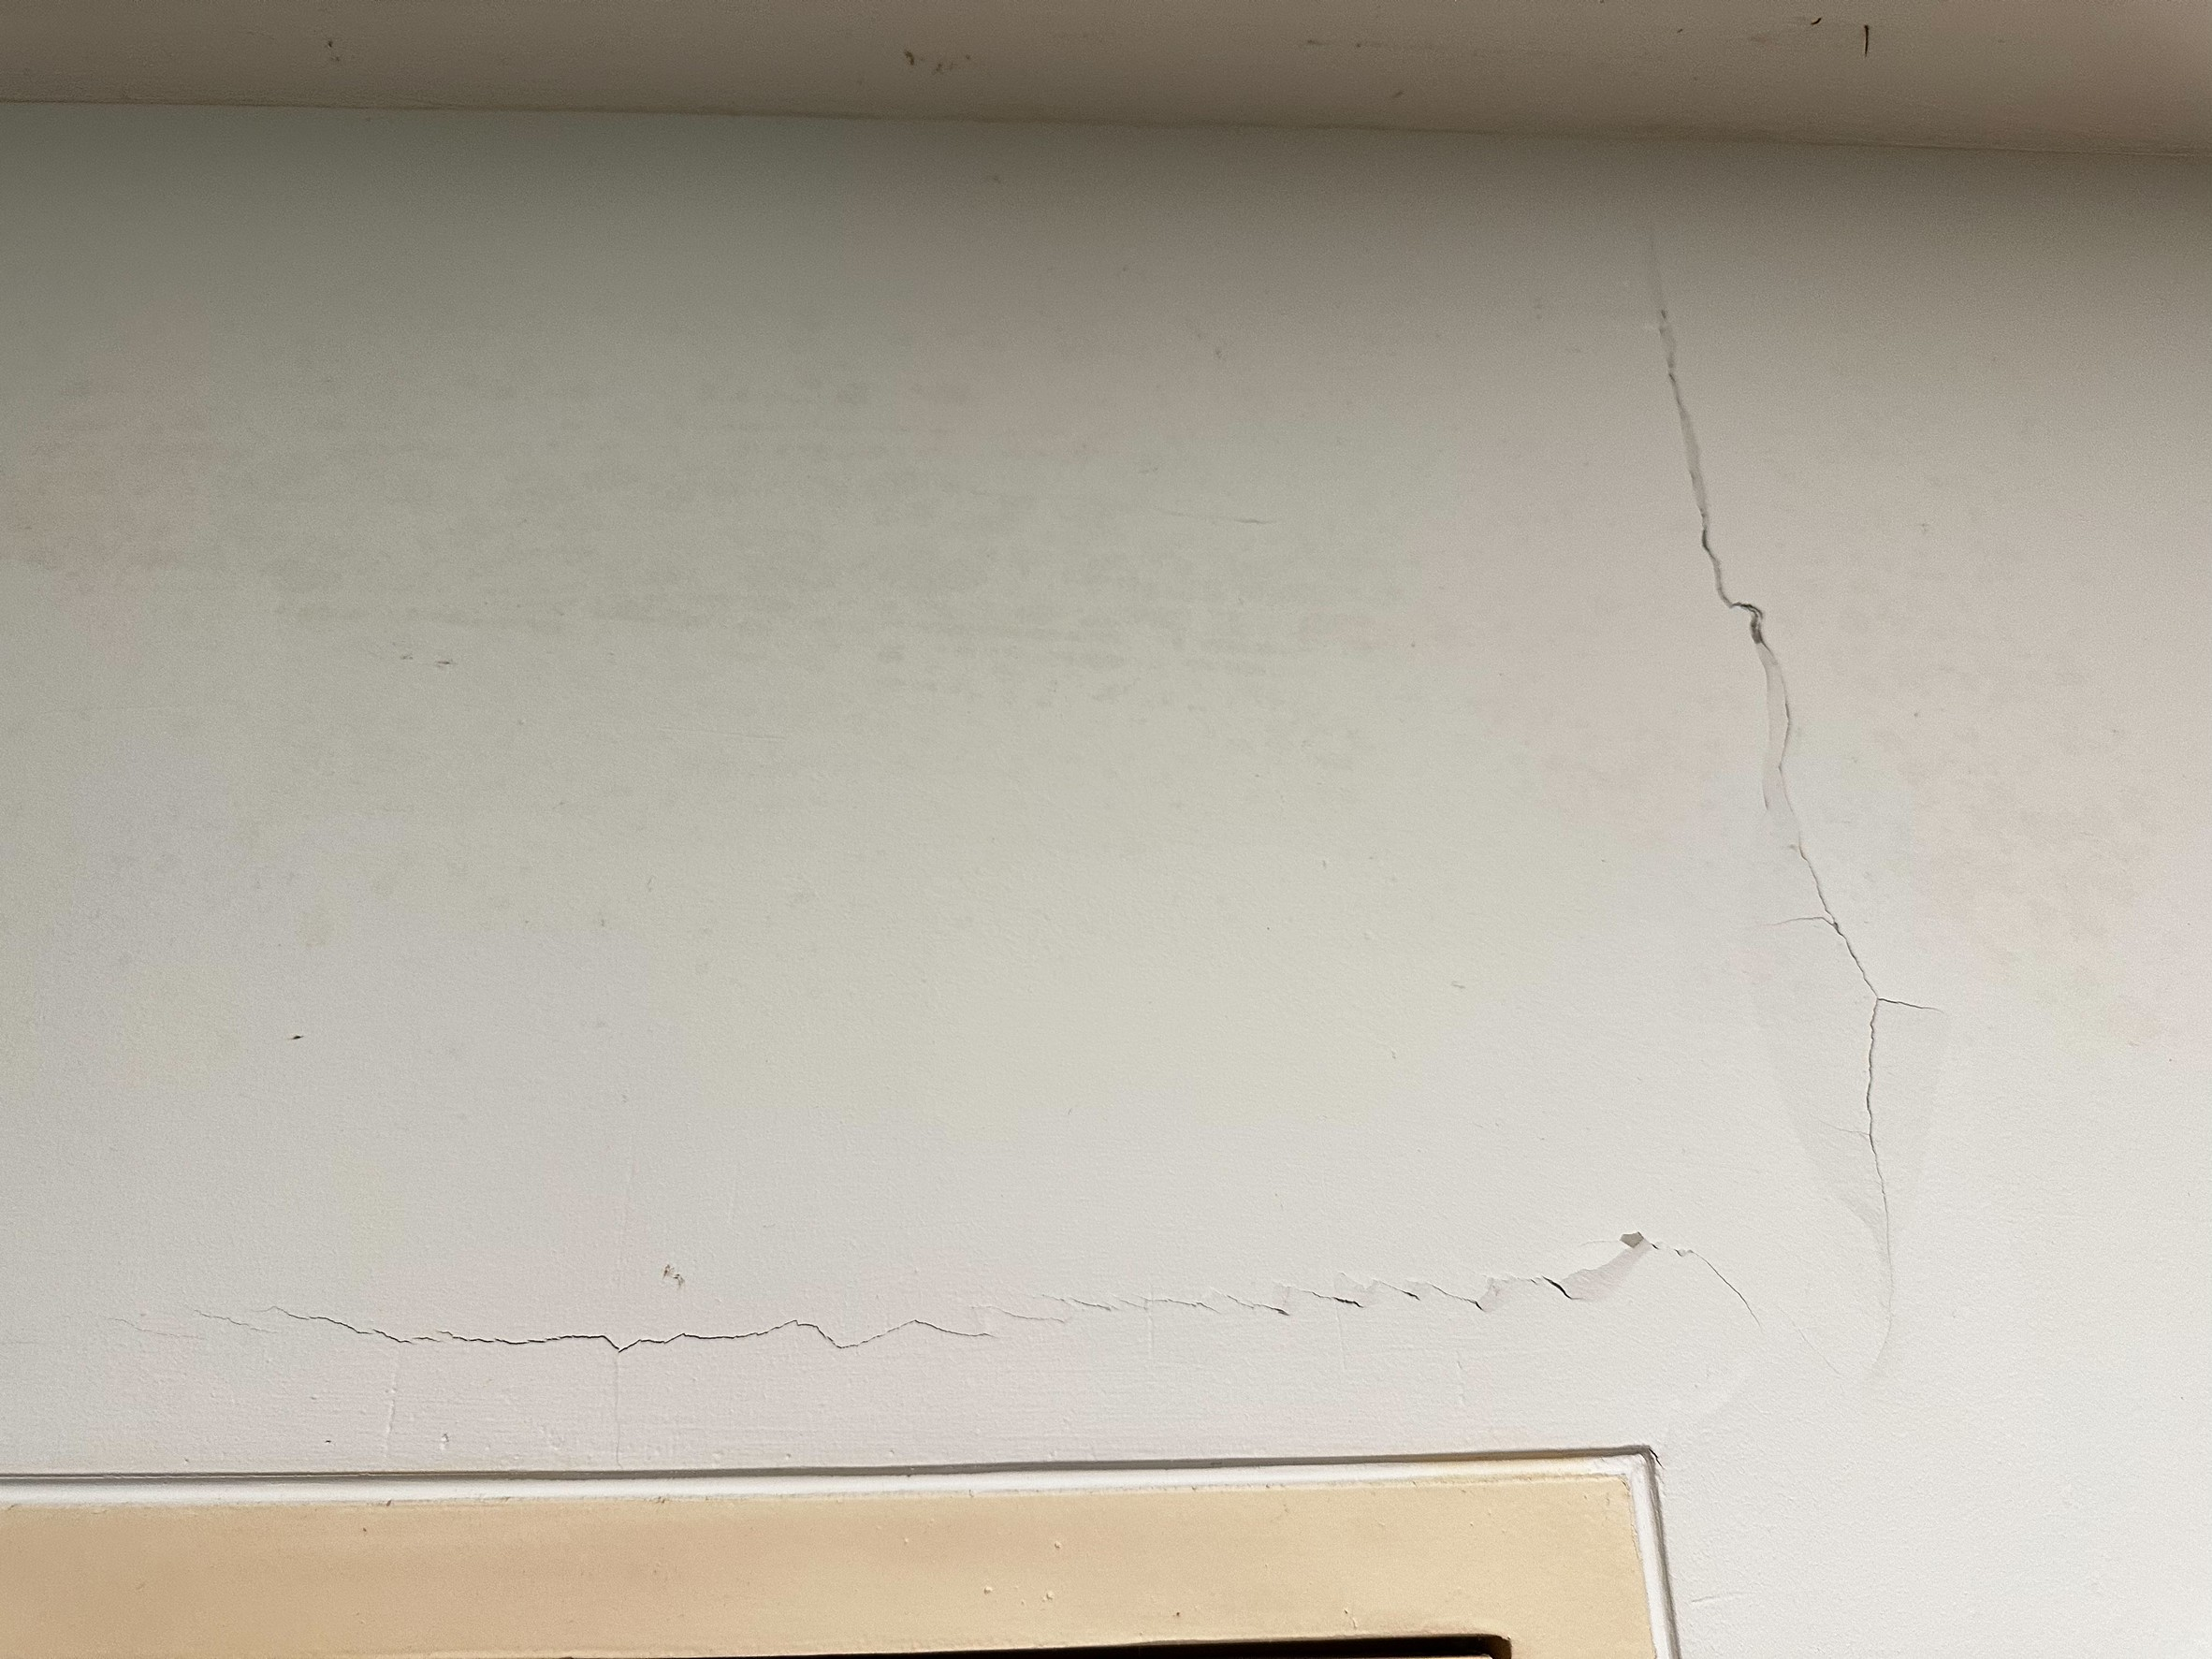Low: (179, 268, 2027, 1405)
